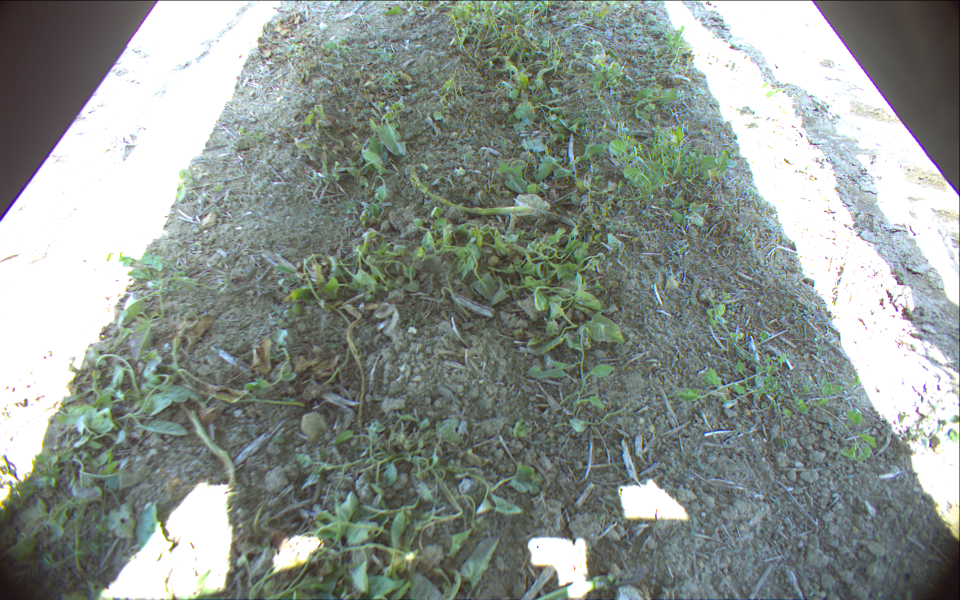aspa: (408, 174, 534, 214)
